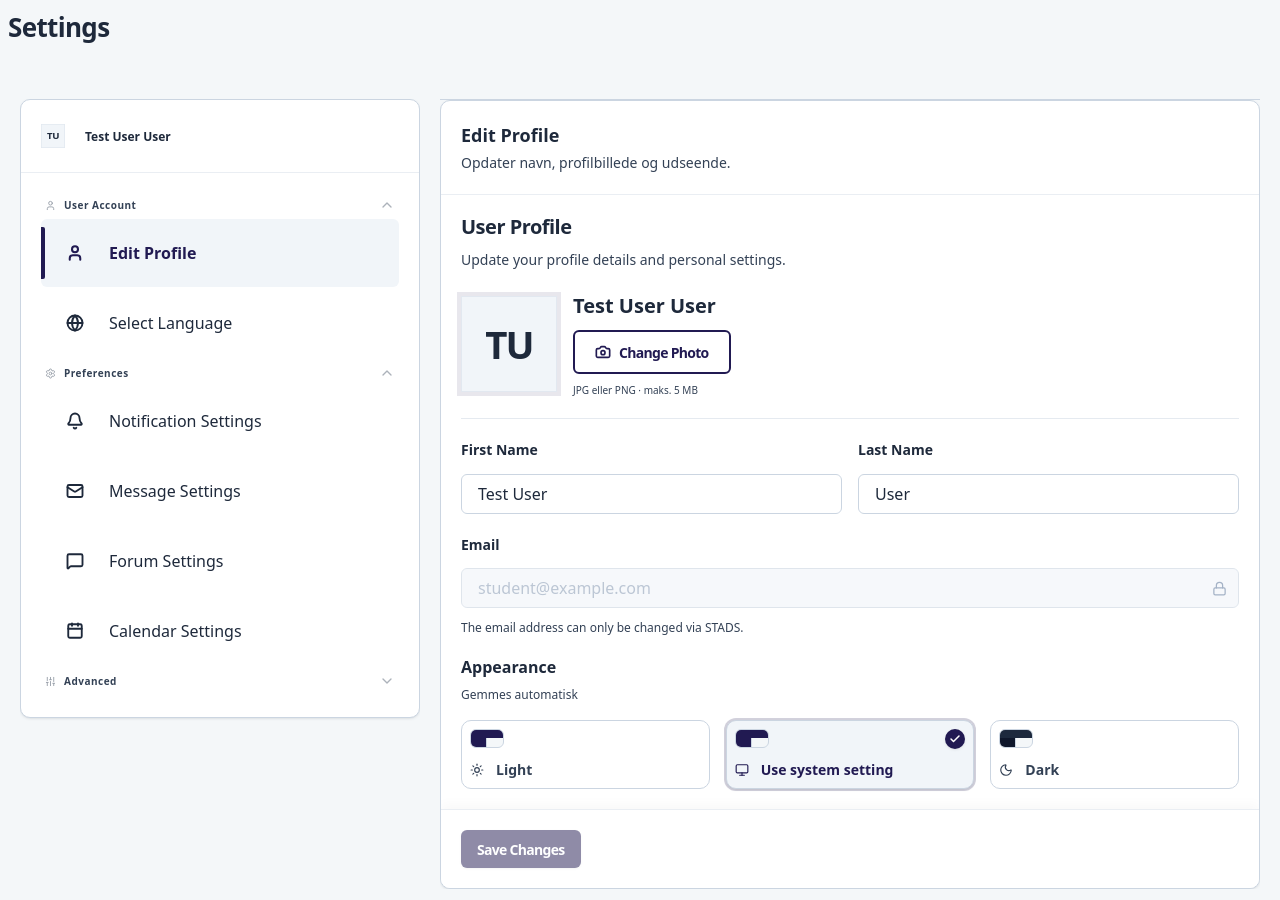
Scenario: Settings Page › navigates to forum tab via click
Click the button "Forum Settings": (220, 561) 41,527 -> 399,595
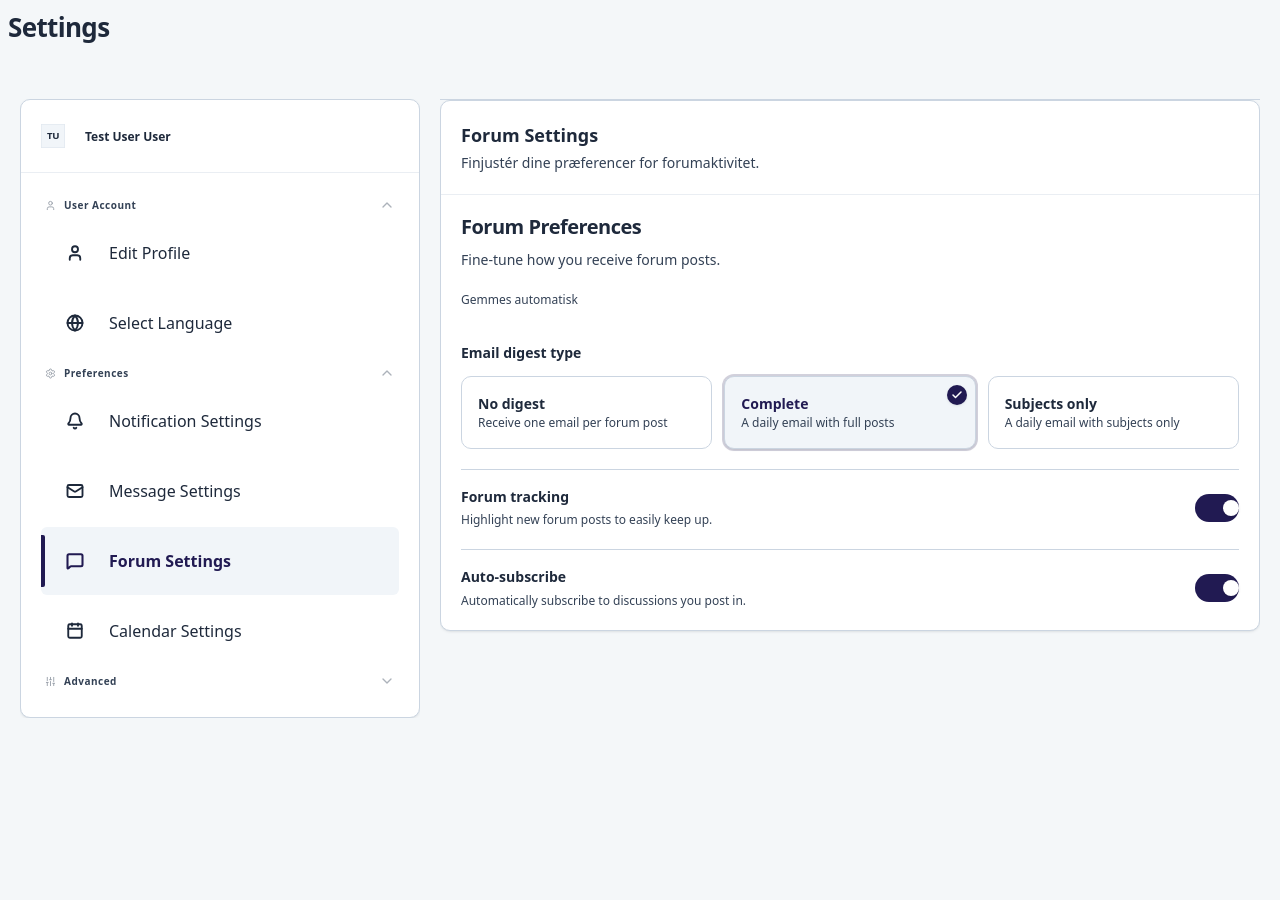
Check: the text "Email digest type" is shown, box 461,343 -> 581,362
